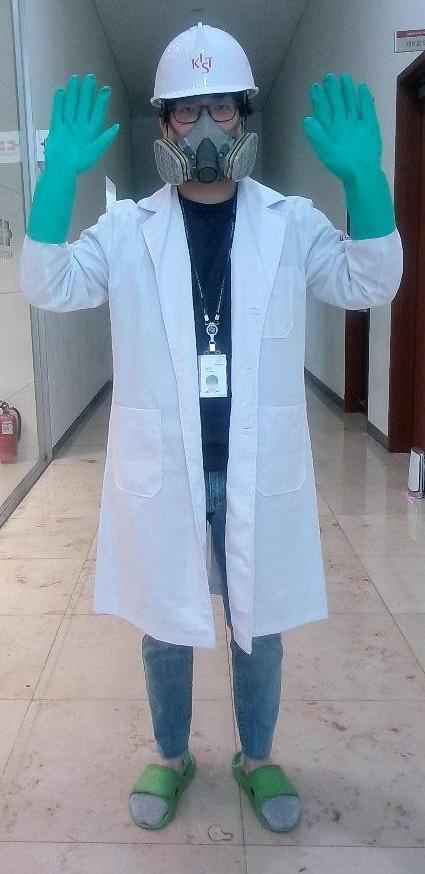lab_coat: (96, 195, 322, 641)
